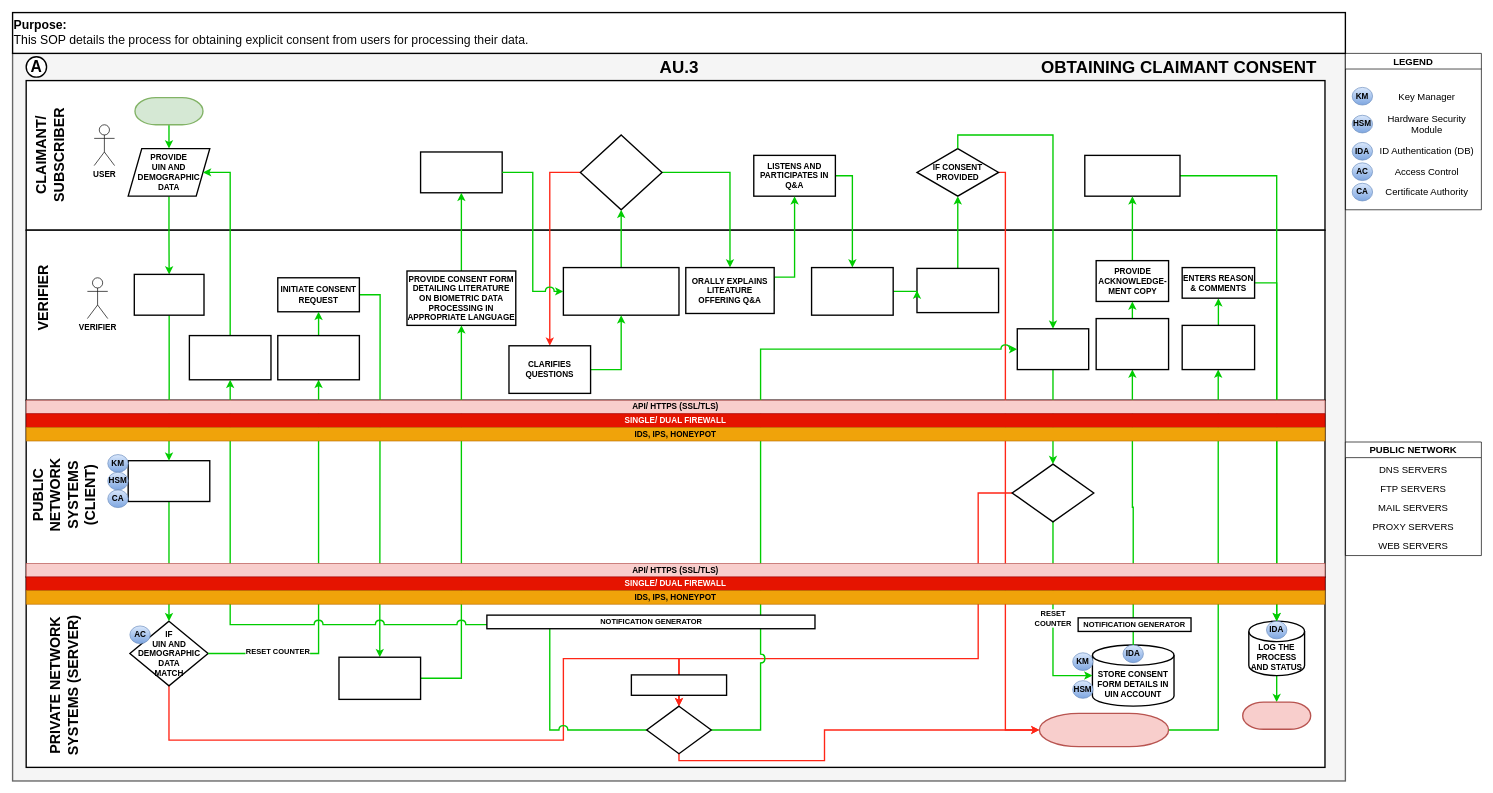
Image size: 1493x793. Some labels were removed from this diagram. Here are the shapes that lost their labels. From the top down, the centre of each, then its label:
pixel 168 111: START (OFFLINE)
pixel 461 172: RECEIVE & READS THE LITERATURE
pixel 620 172: IF NO IMMEDIATE QUESTIONS
pixel 1132 175: RECEIVE ACKNOWLEDGEMENT
pixel 168 294: VERIFY UIN AND DEMOGRAPHIC DATA
pixel 620 291: WAITS FOR CLAIMANT TO READ AND OFFERS SUPPORT FOR ANY IMMEDIATE QUESTION
pixel 852 291: PROVIDE CONTACT DETAILS FOR FURTHER SUPPORT
pixel 957 290: REQUEST EXPLICIT CONSENT AS SIGNATURE OR THUMBPRINT
pixel 229 357: RECEIVE UIN MATCH NOT FOUND NOTIFICATION
pixel 318 357: RECEIVE UIN MATCH FOUND NOTIFICATION
pixel 1052 349: SCAN AND UPLOAD CONSENT FORM
pixel 1132 344: RECEIVE CONSENT UPLOAD SUCCESSFUL NOTIFICATION
pixel 1218 347: RECEIVE CONSENT FAILURE NOTIFICATION
pixel 168 481: MASK & ENCRYPT UIN AND PASSWORD FOR AUTHENTICATION
pixel 1052 492: IF SCANNED FILE ACCEPTED
pixel 379 678: INITIATE CONSENT REQUEST FOR UIN
pixel 678 685: EXCEPTION AND ERROR HANDLING (COUNTER)
pixel 679 729: IF RETRY COUNT <=3
pixel 1103 729: TERMINATE PROCESS: RECORD PROCESS
pixel 1276 715: END
